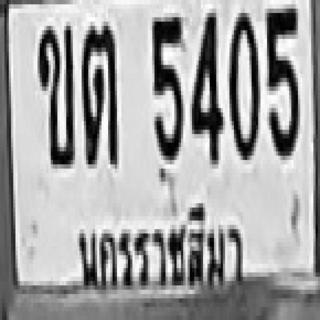A02: (38, 22, 73, 164)
A21: (80, 22, 117, 164)
N00: (227, 9, 258, 156)
N04: (190, 9, 221, 160)
N05: (265, 4, 298, 156), (150, 13, 181, 160)
P30: (71, 201, 247, 298)
